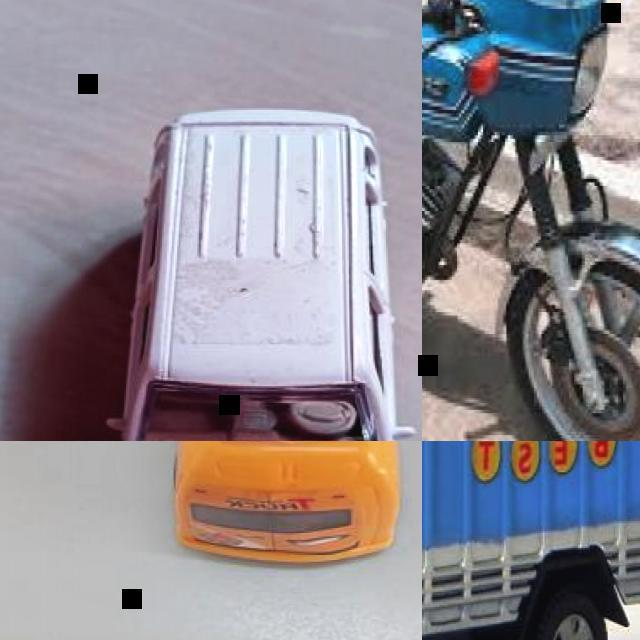car: (502, 146, 639, 435), (497, 544, 637, 639)
